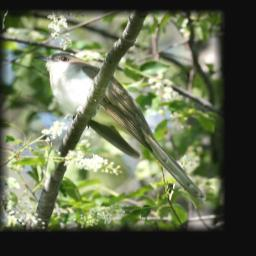Cuckoo: (31, 51, 210, 207)
